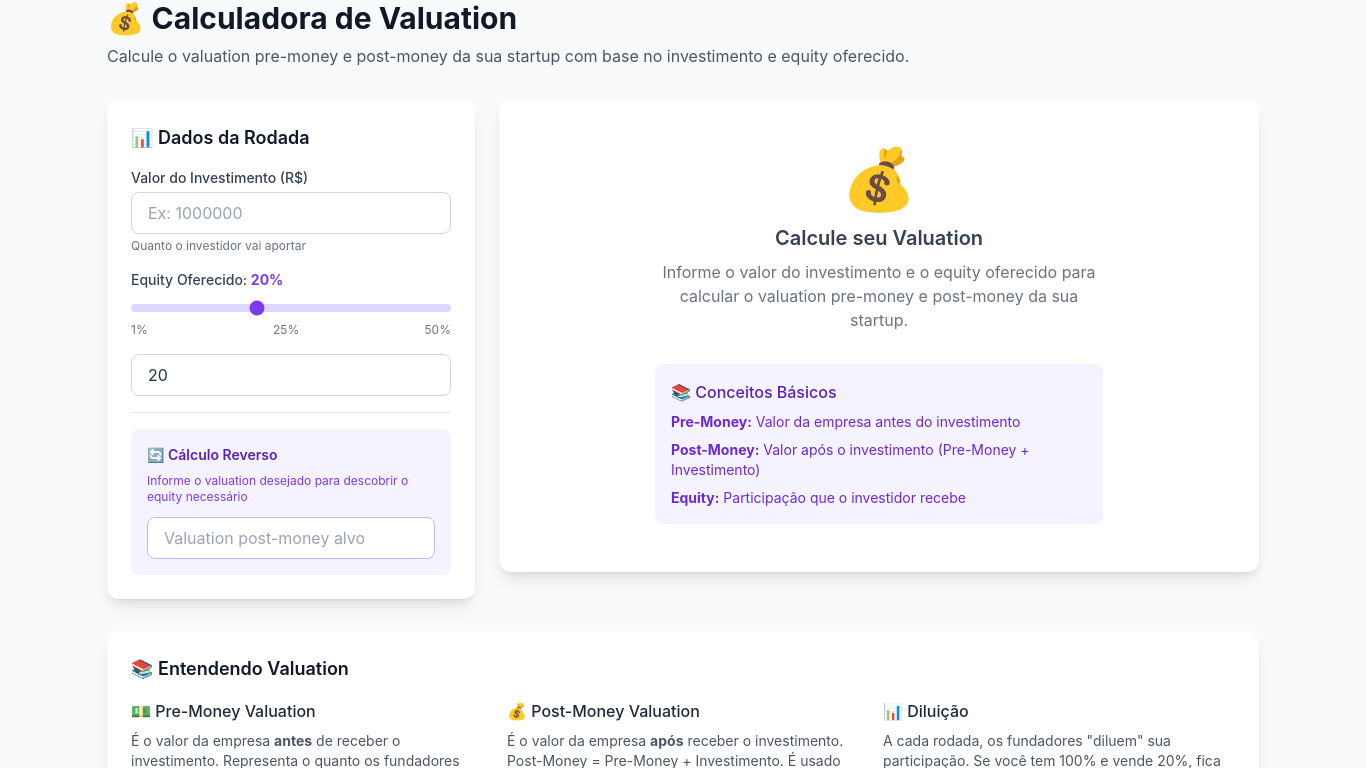
it: CalculadoraValuation - Calculadora de Valuation › Tabela de Sensibilidade › deve exibir tabela de análise de sensibilidade
Note: Investimento é preenchido
Type "1000000" into the number field with placeholder "Ex: 1000000" at (291, 213), box [131, 192, 451, 234]
(page scrolled)
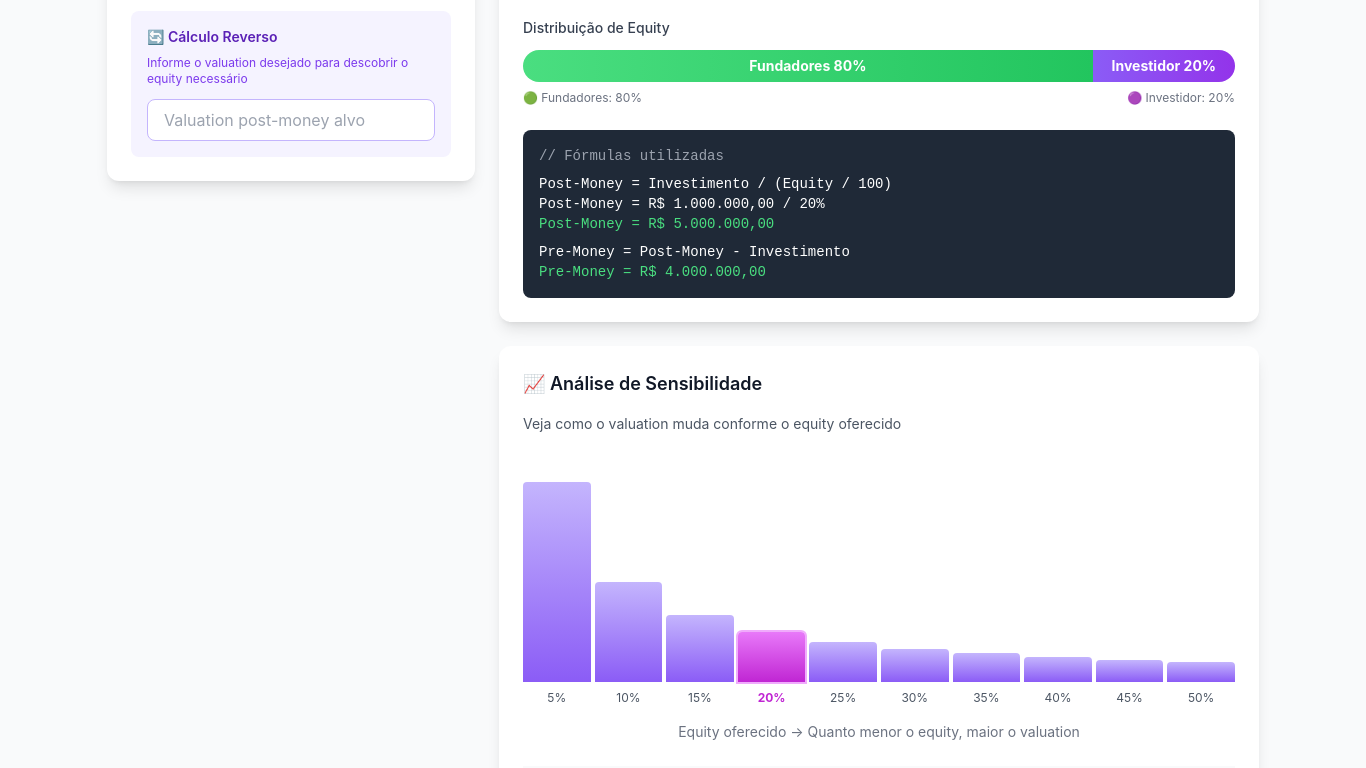
Result: the heading "📈 Análise de Sensibilidade" is shown at [523, 373, 762, 394]
